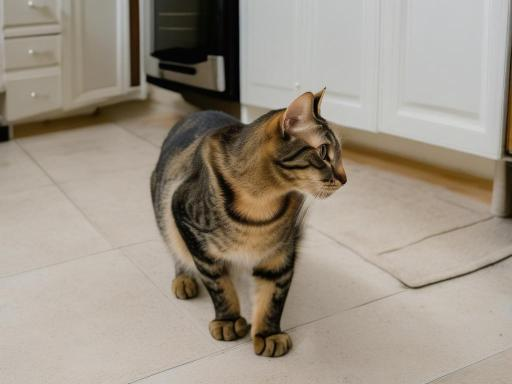cat_standing: (151, 89, 347, 356)
